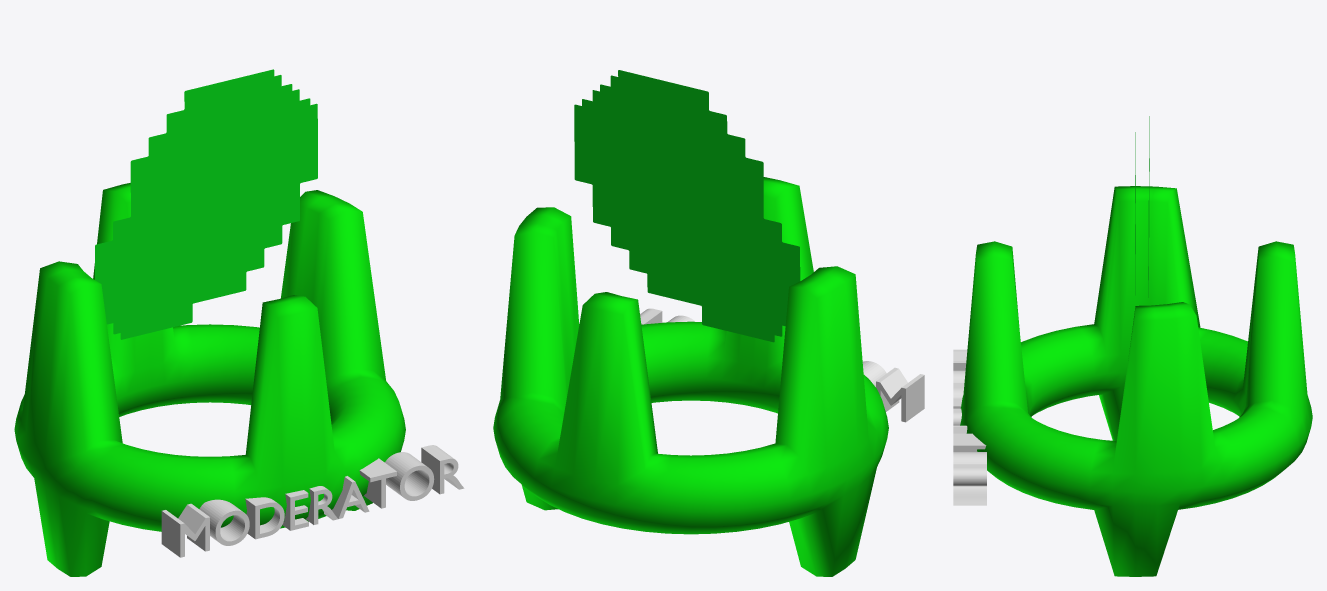
Rendered from ШАПКА МОДЕРАТОРА .fbx.
3 views of the same model, side by side, from view 1: azimuth 30°, elevation 25°; view 2: azimuth 150°, elevation 25°; view 3: azimuth 270°, elevation 25° (orthographic). The views are drawn at different scales.
Parts seen in each view (by area): view 1: Torus, Plane, Text; view 2: Torus, Plane, Text; view 3: Torus, Text.
Part boxes in pixels (<box>): Torus: <box>14,183,405,576</box>; Plane: <box>95,69,317,339</box>; Text: <box>161,445,464,557</box>; Torus: <box>493,177,888,576</box>; Plane: <box>574,70,800,342</box>; Text: <box>640,308,924,422</box>; Torus: <box>960,186,1312,576</box>; Text: <box>953,349,986,505</box>.
Bounding box in the file's own units: 250 × 339 × 254.
